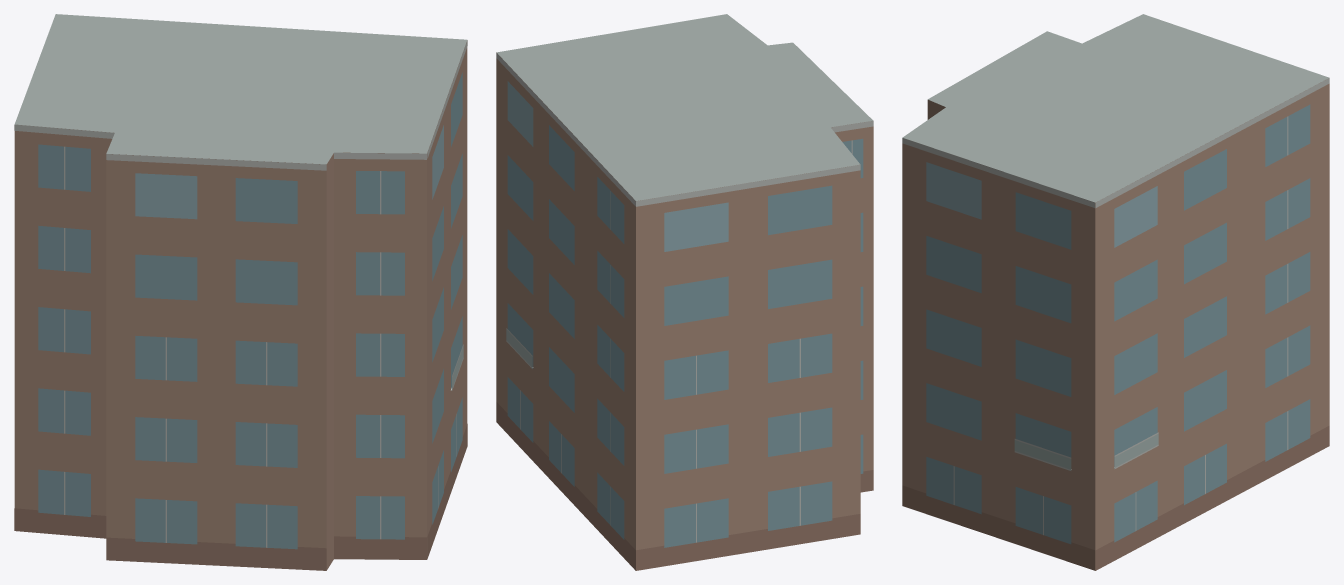
File: survey-upis-32855732.glb
The picture shows the model from 3 angles, left to right: view 1: azimuth 30°, elevation 25°; view 2: azimuth 150°, elevation 25°; view 3: azimuth 270°, elevation 25°; orthographic projection. The views are drawn at different scales.
Visible parts, largest first — view 1: survey-upis-32855732.tmp; view 2: survey-upis-32855732.tmp; view 3: survey-upis-32855732.tmp.
Part boxes in pixels (box(x1,y1,x2,y2)): survey-upis-32855732.tmp: box(14, 14, 467, 570); survey-upis-32855732.tmp: box(496, 14, 873, 570); survey-upis-32855732.tmp: box(902, 14, 1329, 570).
Size of the model in its own units: 17.25 by 15.7 by 16.52.
